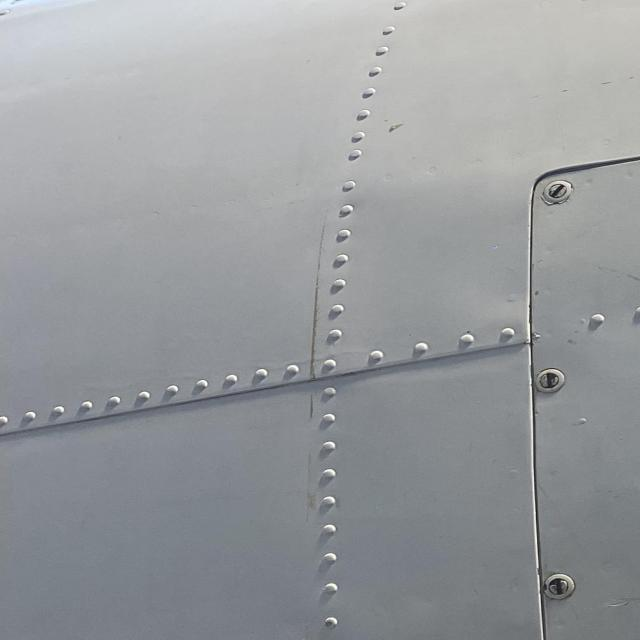Paint-off: (605, 595, 640, 610)
